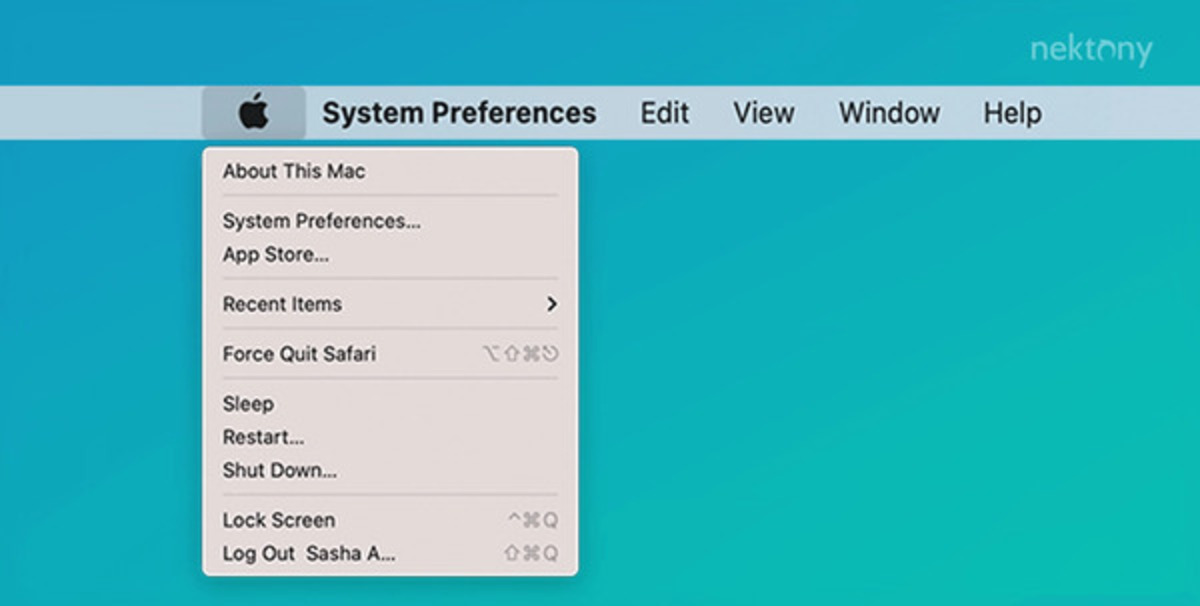menu: (100, 87, 1126, 142)
